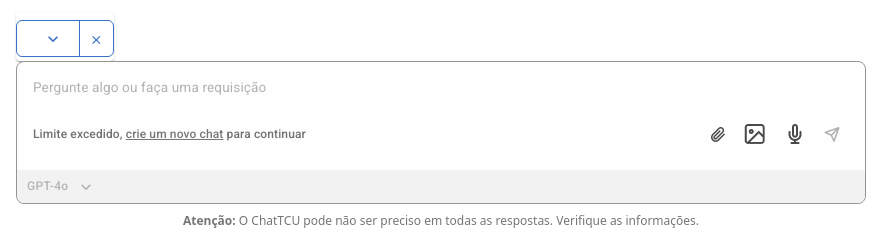
Test case: InputBox Component › deve filtrar agentes corretamente
Type "test @Agent" into the text box with test id "chat-input" at (441, 80), box [17,62,865,98]
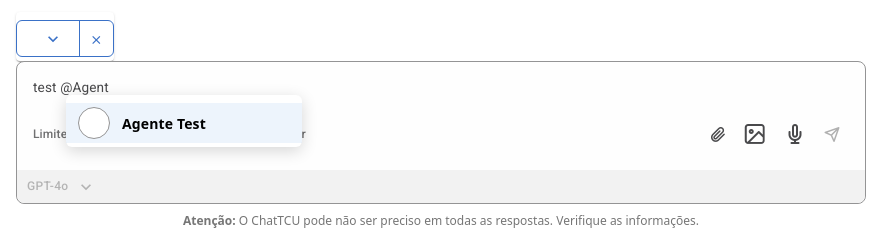
Result: the button "Agente Test" is shown at [66,103,302,143]
